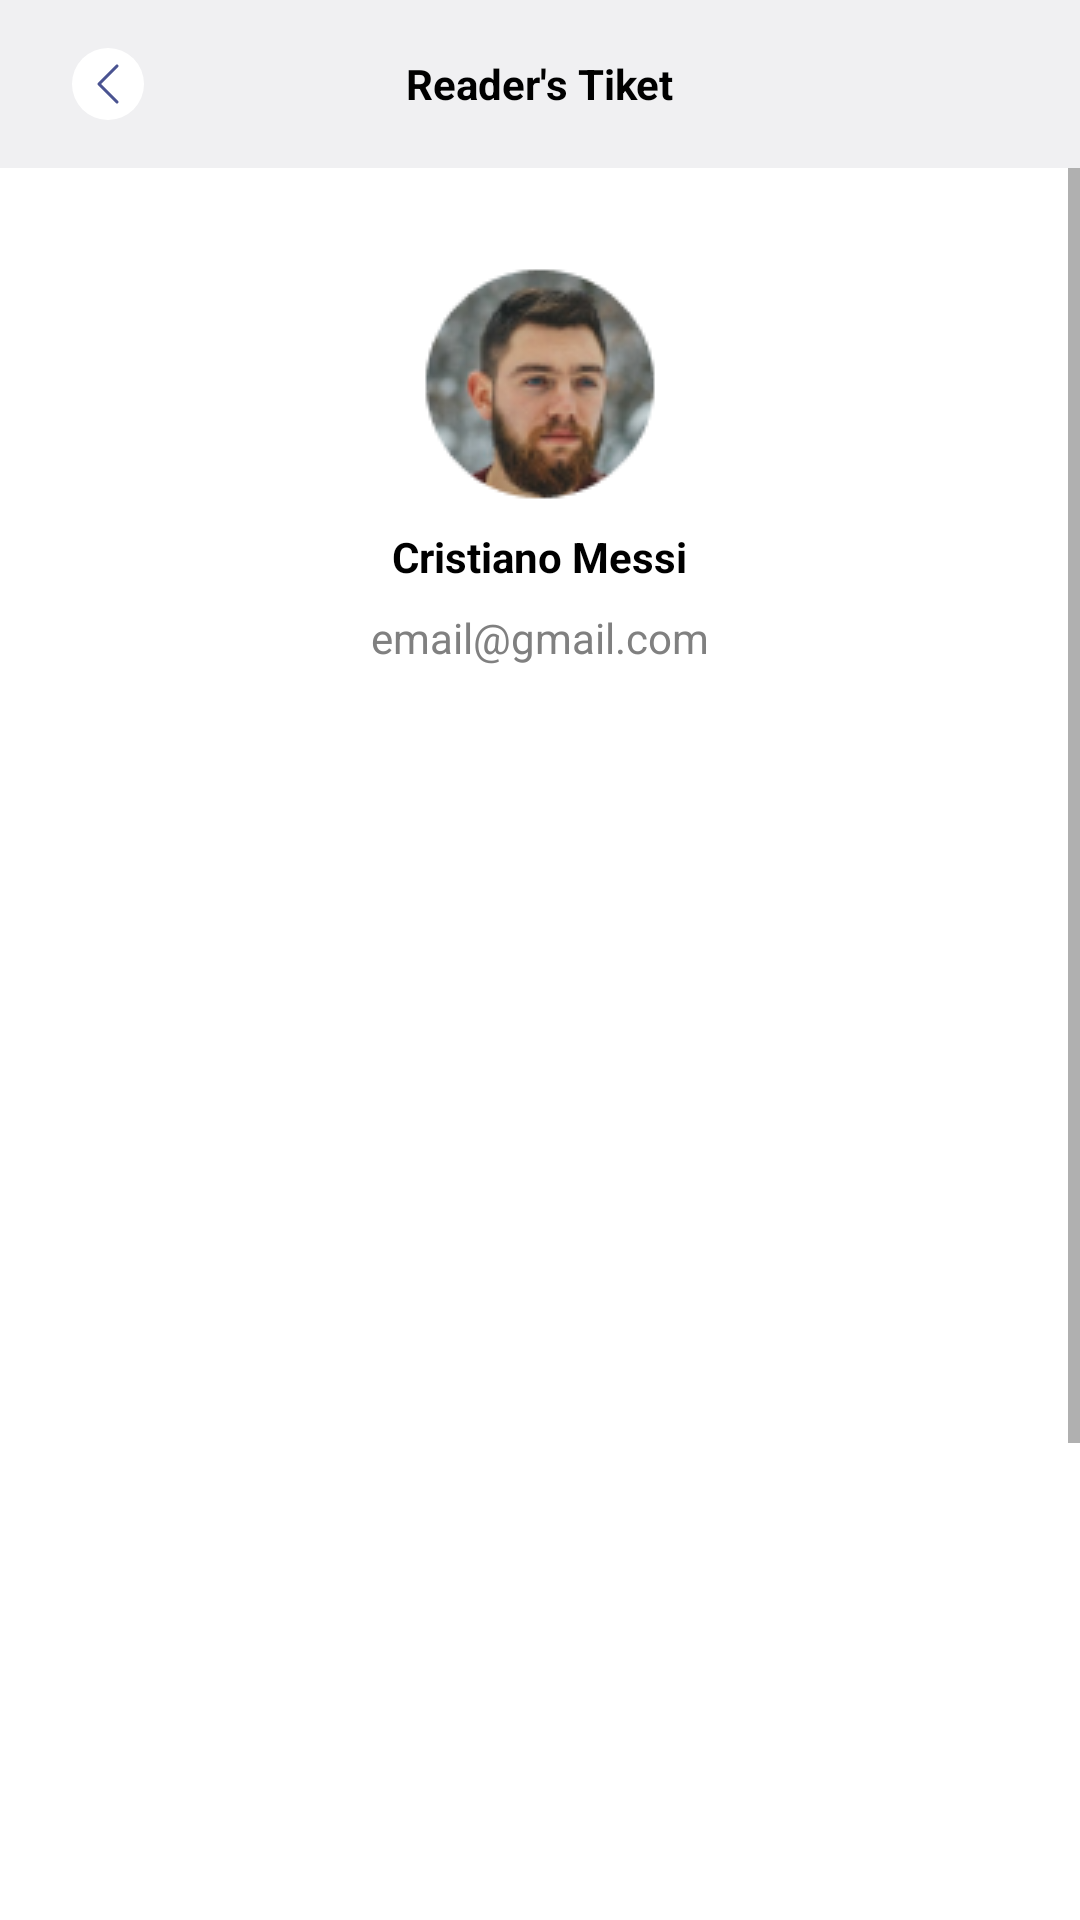

Icon click points for this 1080 x 1920 phone screenshot, format (x,y):
back profile: (108,84)
